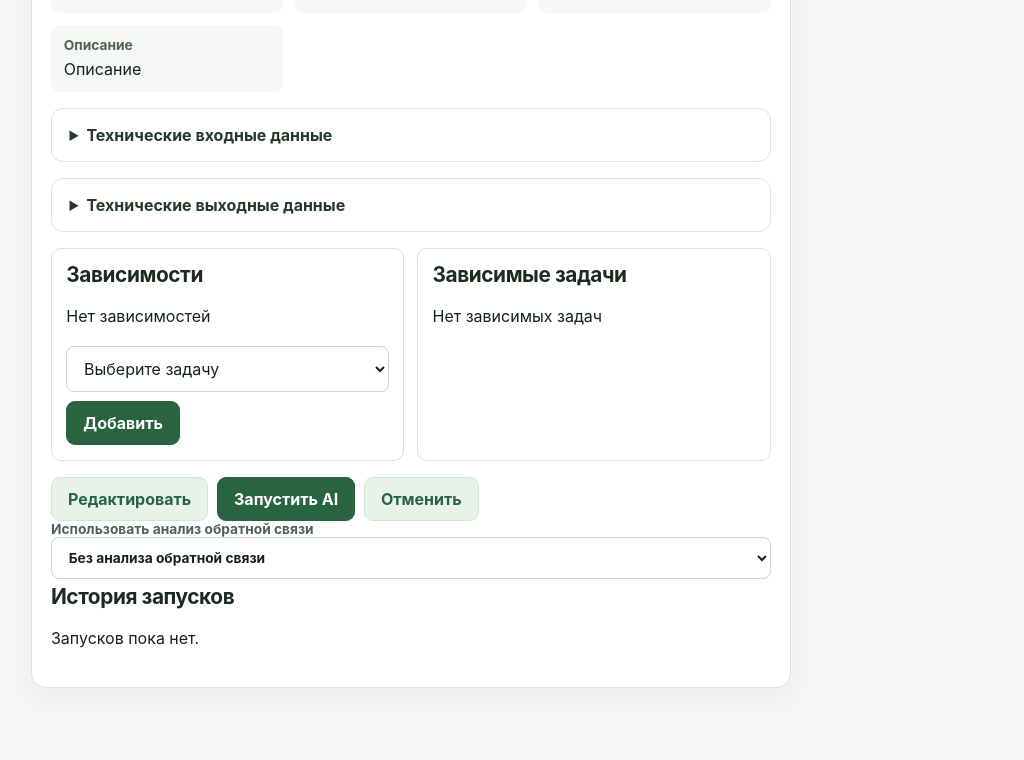
Tasks UI › runs campaign planning explicitly for Marketing Director only
(page scrolled)
Click the button "Запустить AI": (286, 499) [217,477,355,521]
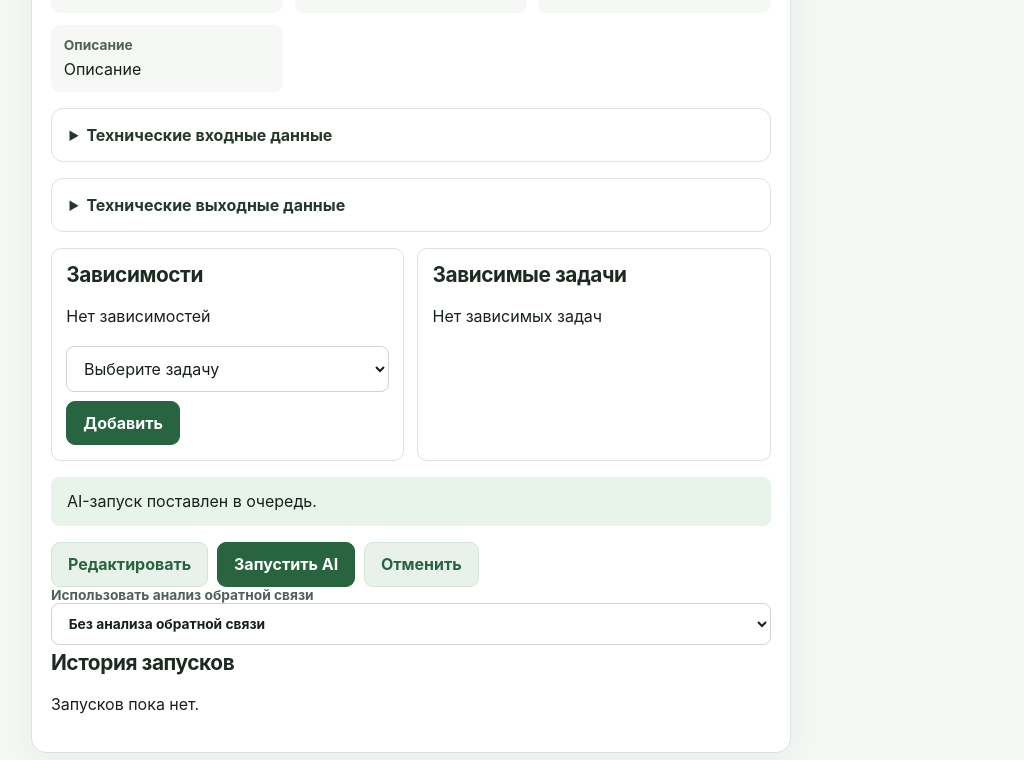
Check: the text "AI-запуск поставлен в очередь." is shown, box [51,477,770,526]
